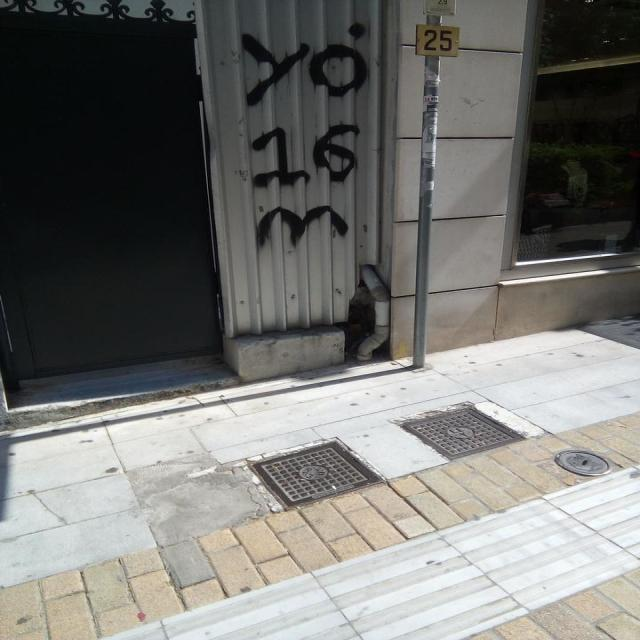nonspitting: (241, 22, 369, 246)
